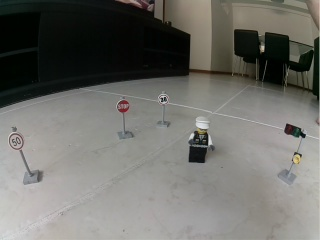Person: (187, 115, 215, 165)
Red Traffic Light: (275, 123, 307, 187)
Speed Limit 30: (158, 93, 169, 106)
Speed Limit 50: (7, 132, 24, 150)
Stop Sign: (116, 100, 129, 113)
